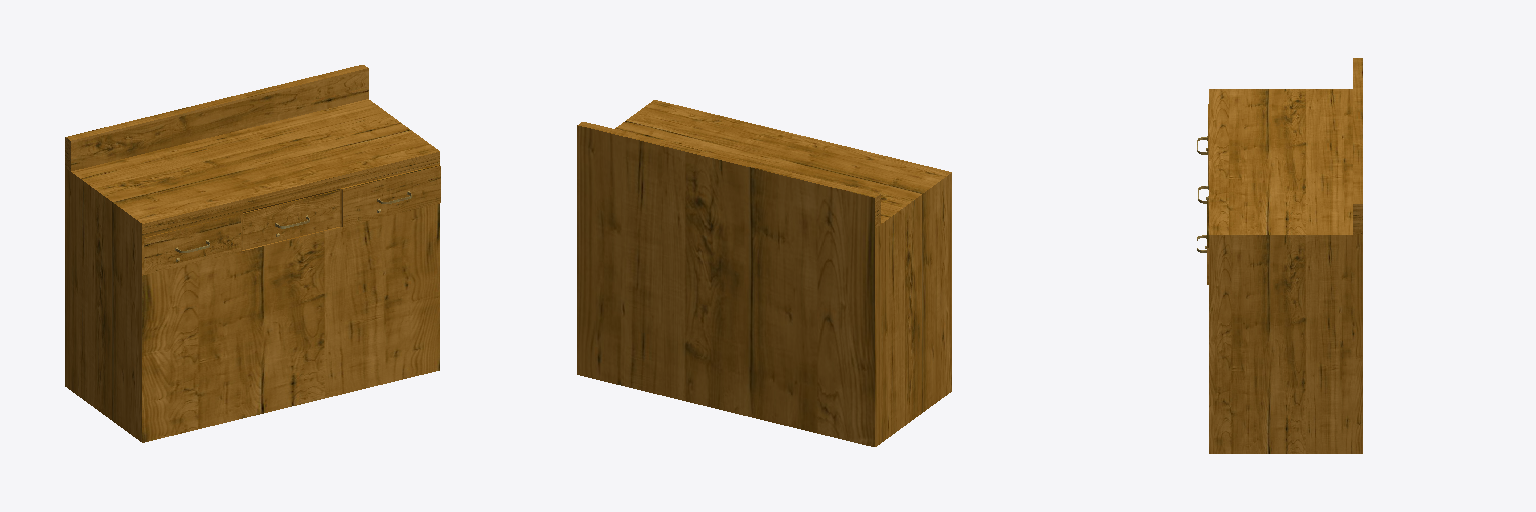
3 views of the same model, side by side, from view 1: azimuth 30°, elevation 25°; view 2: azimuth 150°, elevation 25°; view 3: azimuth 270°, elevation 25° (orthographic).
Parts seen in each view (by area): view 1: serving_stationAdmiral.obj; view 2: serving_stationAdmiral.obj; view 3: serving_stationAdmiral.obj.
Boxes of the visible parts, <box> form: serving_stationAdmiral.obj: <box>65,65,440,442</box>; serving_stationAdmiral.obj: <box>577,100,951,446</box>; serving_stationAdmiral.obj: <box>1197,58,1362,453</box>.
Size of the model in its own units: 8.22 by 6.59 by 3.98.
1 materials, 1 textured.